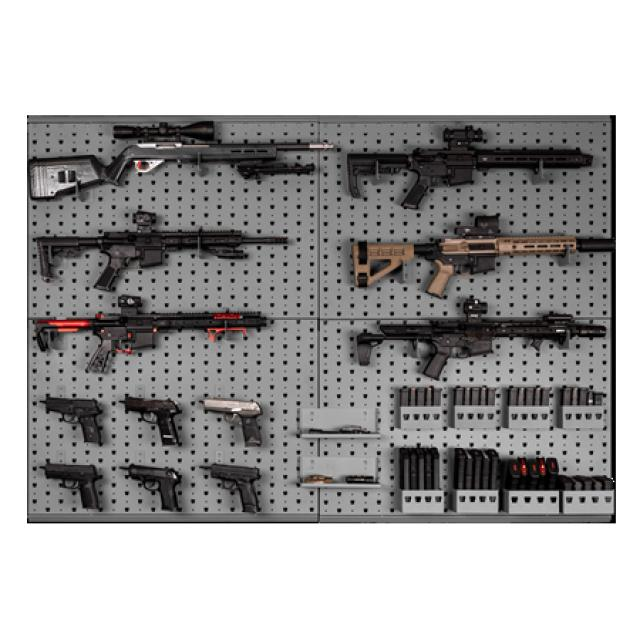HandGun: (41, 461, 102, 512), (46, 395, 102, 447), (127, 395, 182, 447), (206, 398, 263, 447), (128, 465, 182, 511), (210, 464, 260, 513)
Rifle: (30, 121, 334, 199), (353, 215, 616, 297), (356, 299, 607, 380), (34, 212, 287, 290), (348, 128, 593, 208), (33, 297, 272, 375)
